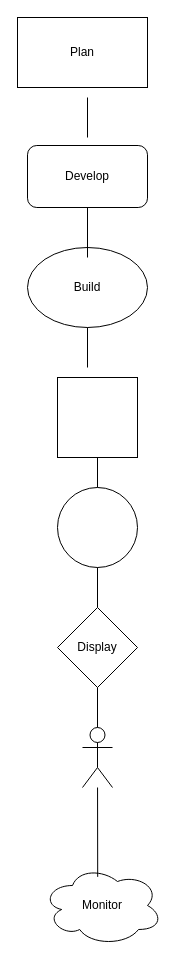
The diagram is 180 pixels wide and 963 high, and some of its shapes have lost their labels. Each missing label, with the centre of its shape:
Actor: the point at 97,757
Release: the point at 97,527
text: the point at 97,417
